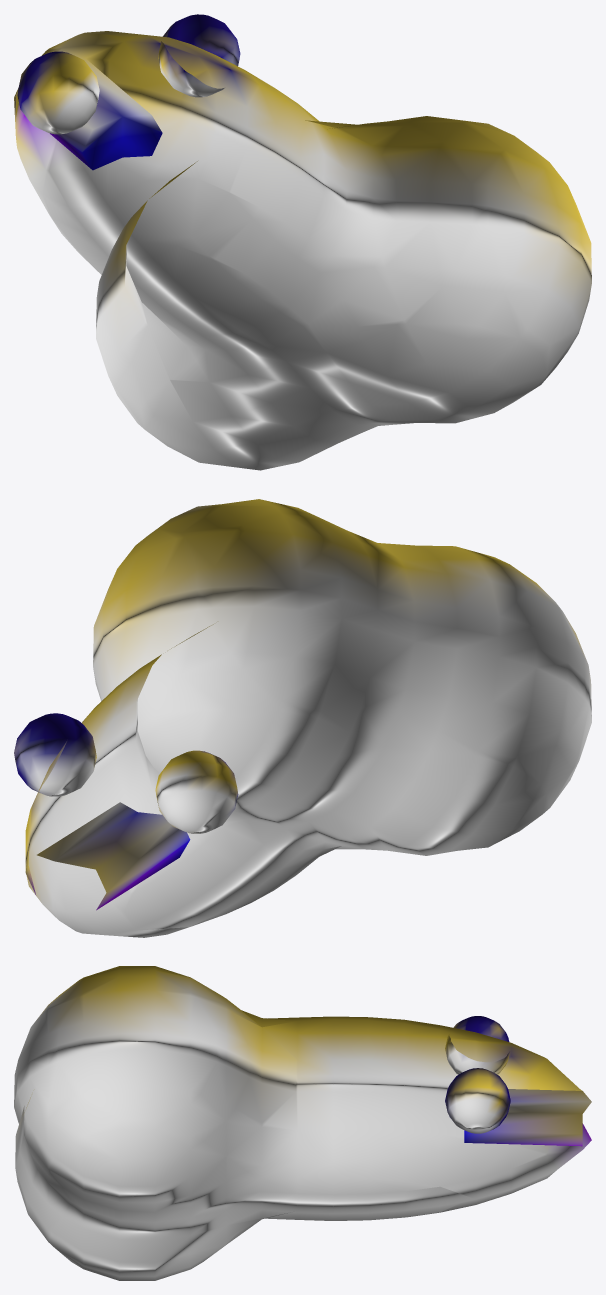
File: ballsfish.glb
3 views of the same model, one above another, from view 1: azimuth 30°, elevation 25°; view 2: azimuth 150°, elevation 25°; view 3: azimuth 270°, elevation 25° (orthographic). The views are drawn at different scales.
Visible parts, largest first — view 1: Sphere003; view 2: Sphere003; view 3: Sphere003.
Boxes of the visible parts, bbox=[...] form: Sphere003: bbox=[14, 14, 591, 470]; Sphere003: bbox=[14, 499, 591, 937]; Sphere003: bbox=[14, 966, 591, 1280].
Size of the model in its own units: 0.8163 by 0.4766 by 1.14.
